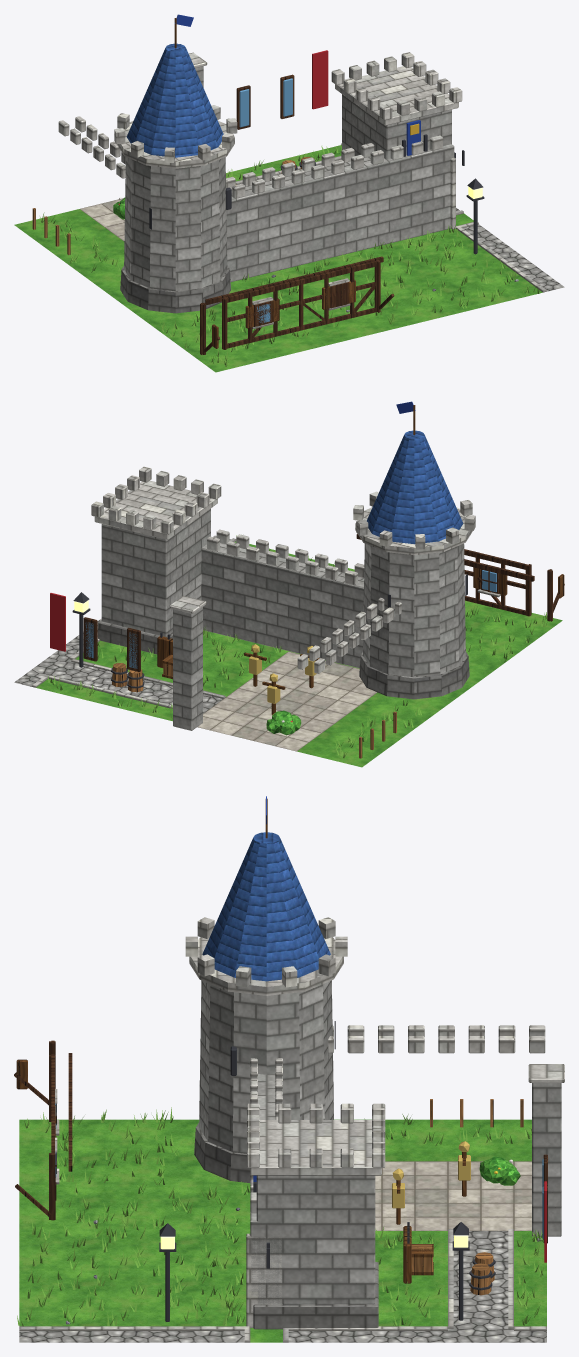
Rendered from chunk_5_4.glb.
The picture shows the model from 3 angles, top to bottom: view 1: azimuth 30°, elevation 25°; view 2: azimuth 150°, elevation 25°; view 3: azimuth 270°, elevation 25°; orthographic projection. The views are drawn at different scales.
Parts seen in each view (by area): view 1: chunk_5_4; view 2: chunk_5_4; view 3: chunk_5_4.
Boxes of the visible parts, <box> form: chunk_5_4: <box>14,14,564,372</box>; chunk_5_4: <box>14,401,564,767</box>; chunk_5_4: <box>14,796,564,1342</box>.
Bounding box in the file's own units: 16.15 × 12.09 × 16.71.
25 materials, 13 textured.
